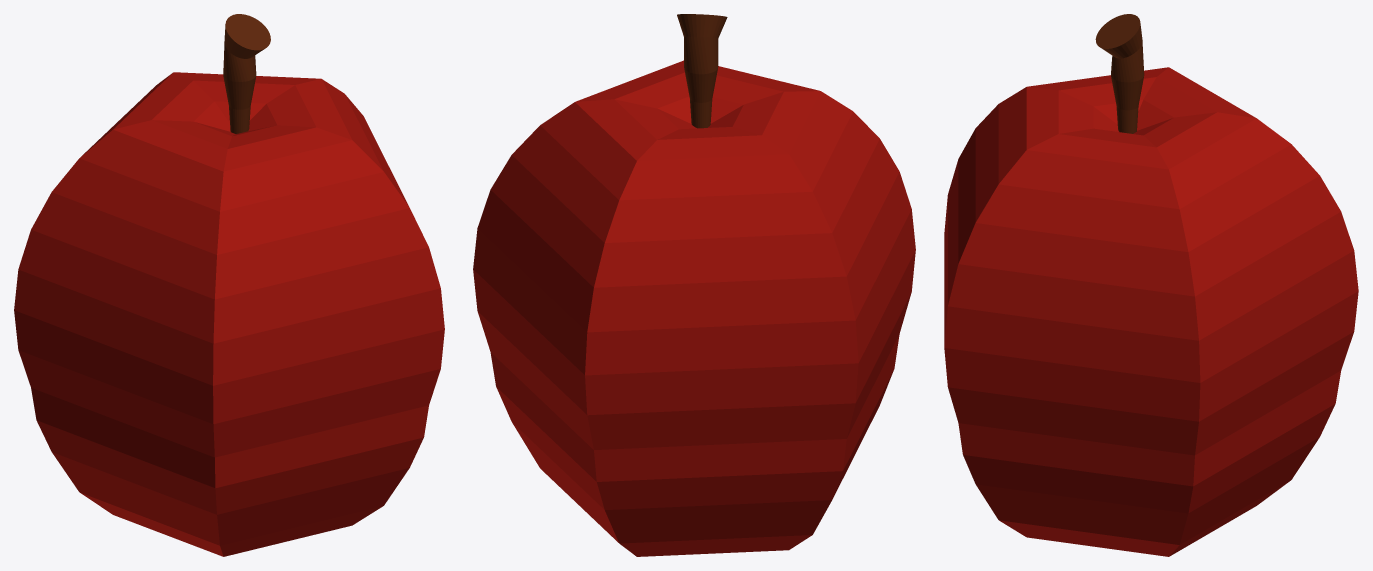
File: apple.obj
3 renders of one model, left to right at view 1: azimuth 30°, elevation 25°; view 2: azimuth 150°, elevation 25°; view 3: azimuth 270°, elevation 25°, orthographic. The views are drawn at different scales.
Visible parts, largest first — view 1: Sphere_Sphere.003, Sphere.001; view 2: Sphere_Sphere.003, Sphere.001; view 3: Sphere_Sphere.003, Sphere.001.
Part boxes in pixels (x1,y1,x2,y2): Sphere_Sphere.003: (14, 72, 444, 556); Sphere.001: (223, 14, 270, 133); Sphere_Sphere.003: (473, 60, 915, 556); Sphere.001: (677, 14, 727, 128); Sphere_Sphere.003: (944, 67, 1358, 556); Sphere.001: (1095, 14, 1144, 133).
Bounding box in the file's own units: 0.684 × 0.8592 × 0.6505.
